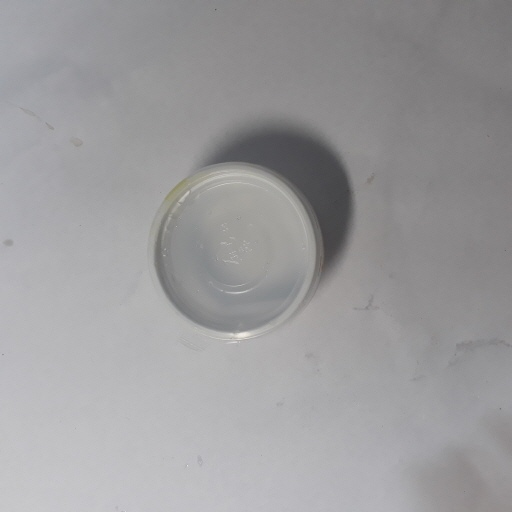Plastic_5: (144, 155, 330, 346)
